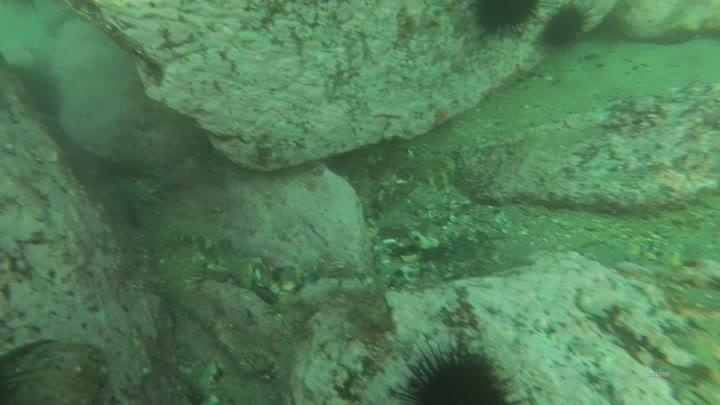echinus: (391, 338, 515, 405), (467, 1, 543, 41), (537, 1, 594, 53)
holothurian: (379, 145, 462, 192), (144, 215, 227, 254), (189, 355, 225, 405)
